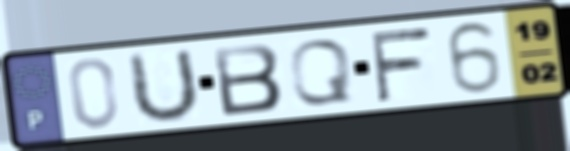0: (65, 56, 122, 132)
6: (445, 18, 506, 97)
B: (209, 40, 286, 119)
F: (366, 24, 435, 105)
Q: (286, 36, 356, 108)
U: (126, 45, 203, 128)
